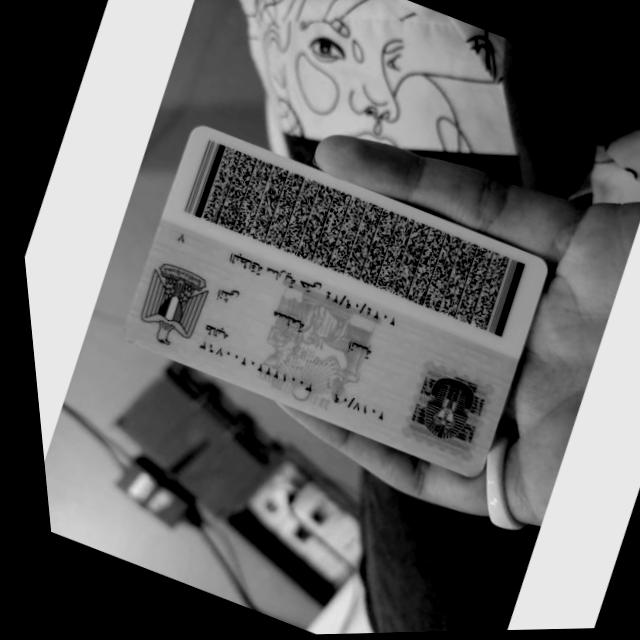back: (125, 128, 546, 475)
